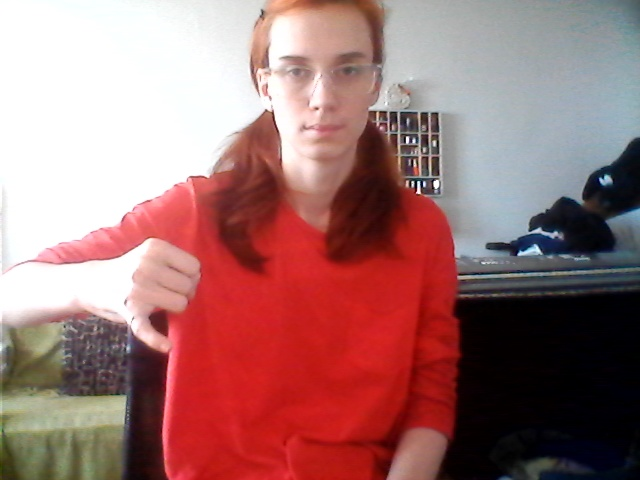j: (93, 220, 213, 372)
